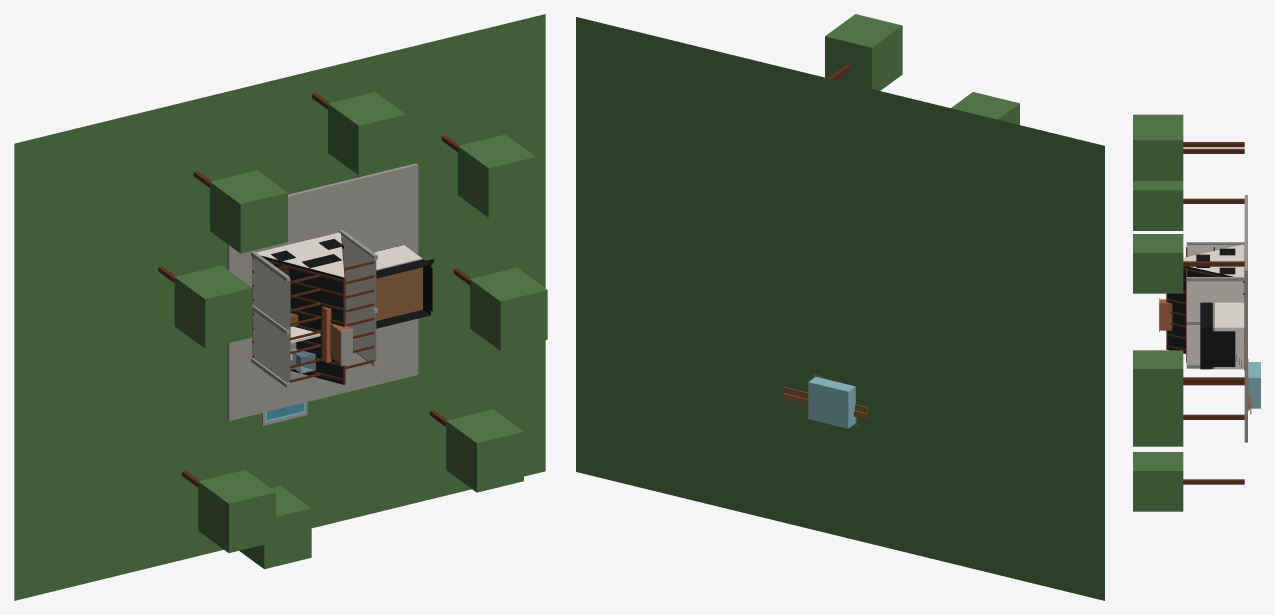
The model's file is casa_maua.obj.
3 views of the same model, side by side, from view 1: azimuth 30°, elevation 25°; view 2: azimuth 150°, elevation 25°; view 3: azimuth 270°, elevation 25° (orthographic). The views are drawn at different scales.
Parts seen in each view (by area): view 1: terrain, plataforma, arvore_copa_05, arvore_copa_03, arvore_copa_08, arvore_copa_04, arvore_copa_06, arvore_copa_07, arvore_copa_01, parede_lateral_oeste_ext, arvore_copa_02, cobertura_esquerda_exterior (+3 smaller); view 2: terrain, arvore_copa_07, fundo_piscina, arvore_copa_08; view 3: arvore_copa_03, arvore_copa_04, arvore_copa_06, arvore_copa_07, arvore_copa_05, parede_lateral_leste_ext, arvore_copa_02, corrimao_externo, cobertura_direita_exterior, plataforma, parede_anexo_norte, parede_traseira_exterior (+16 smaller).
Boxes of the visible parts, x1=… form: terrain: x1=14, y1=14, x2=545, y2=600; plataforma: x1=227, y1=163, x2=418, y2=420; arvore_copa_05: x1=174, y1=265, x2=252, y2=348; arvore_copa_03: x1=446, y1=409, x2=523, y2=492; arvore_copa_08: x1=210, y1=170, x2=287, y2=253; arvore_copa_04: x1=470, y1=267, x2=547, y2=350; arvore_copa_06: x1=458, y1=134, x2=535, y2=217; arvore_copa_07: x1=328, y1=92, x2=405, y2=175; arvore_copa_01: x1=198, y1=470, x2=275, y2=552; parede_lateral_oeste_ext: x1=252, y1=258, x2=288, y2=383; arvore_copa_02: x1=239, y1=486, x2=311, y2=569; cobertura_esquerda_exterior: x1=261, y1=255, x2=342, y2=382; terrain: x1=576, y1=17, x2=1104, y2=600; arvore_copa_07: x1=825, y1=14, x2=902, y2=90; fundo_piscina: x1=810, y1=384, x2=848, y2=428; arvore_copa_08: x1=951, y1=92, x2=1019, y2=124; arvore_copa_03: x1=1133, y1=452, x2=1183, y2=511; arvore_copa_04: x1=1133, y1=350, x2=1183, y2=409; arvore_copa_06: x1=1133, y1=234, x2=1183, y2=293; arvore_copa_07: x1=1133, y1=121, x2=1183, y2=180; arvore_copa_05: x1=1133, y1=181, x2=1183, y2=230; parede_lateral_leste_ext: x1=1186, y1=281, x2=1244, y2=364; arvore_copa_02: x1=1133, y1=409, x2=1183, y2=446; corrimao_externo: x1=1200, y1=331, x2=1235, y2=366; cobertura_direita_exterior: x1=1167, y1=266, x2=1233, y2=352; plataforma: x1=1244, y1=195, x2=1247, y2=442; parede_anexo_norte: x1=1215, y1=302, x2=1244, y2=329; parede_traseira_exterior: x1=1183, y1=244, x2=1244, y2=276.
Bounding box in the file's own units: 45 × 37.2 × 11.45.
